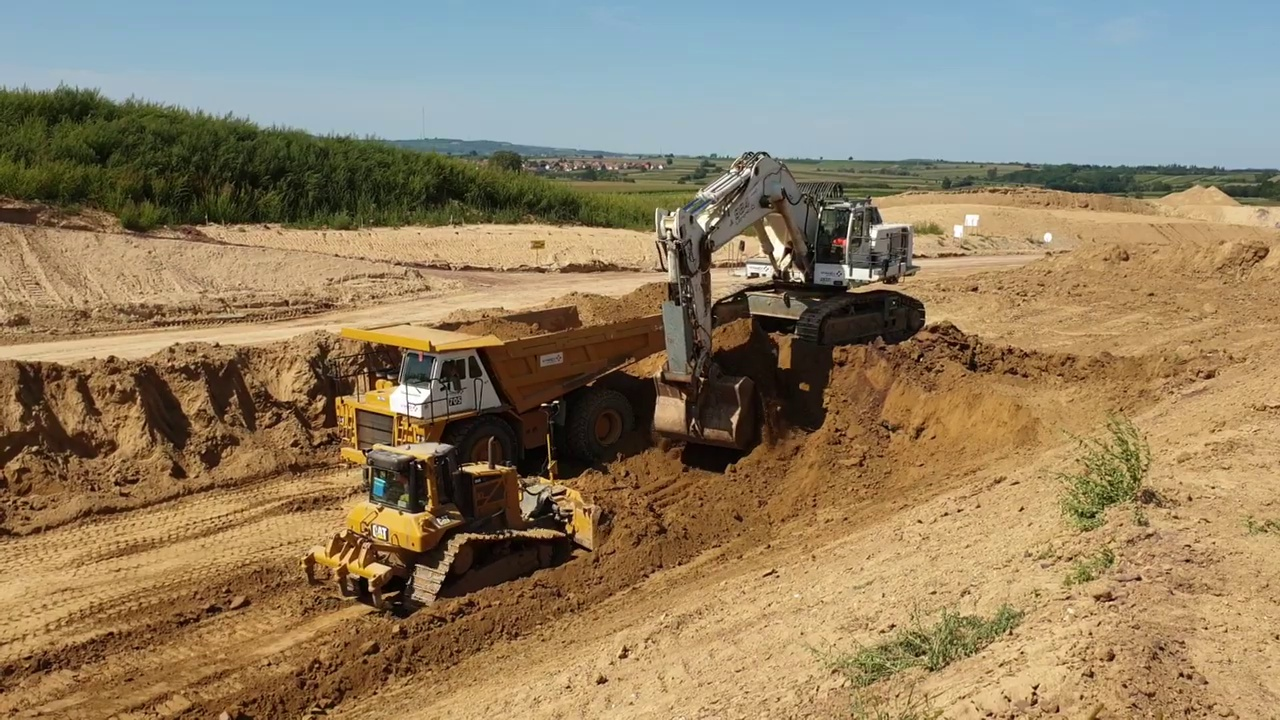bulldozer: (302, 400, 606, 619)
excavator: (643, 147, 930, 458)
truck: (325, 303, 673, 496)
